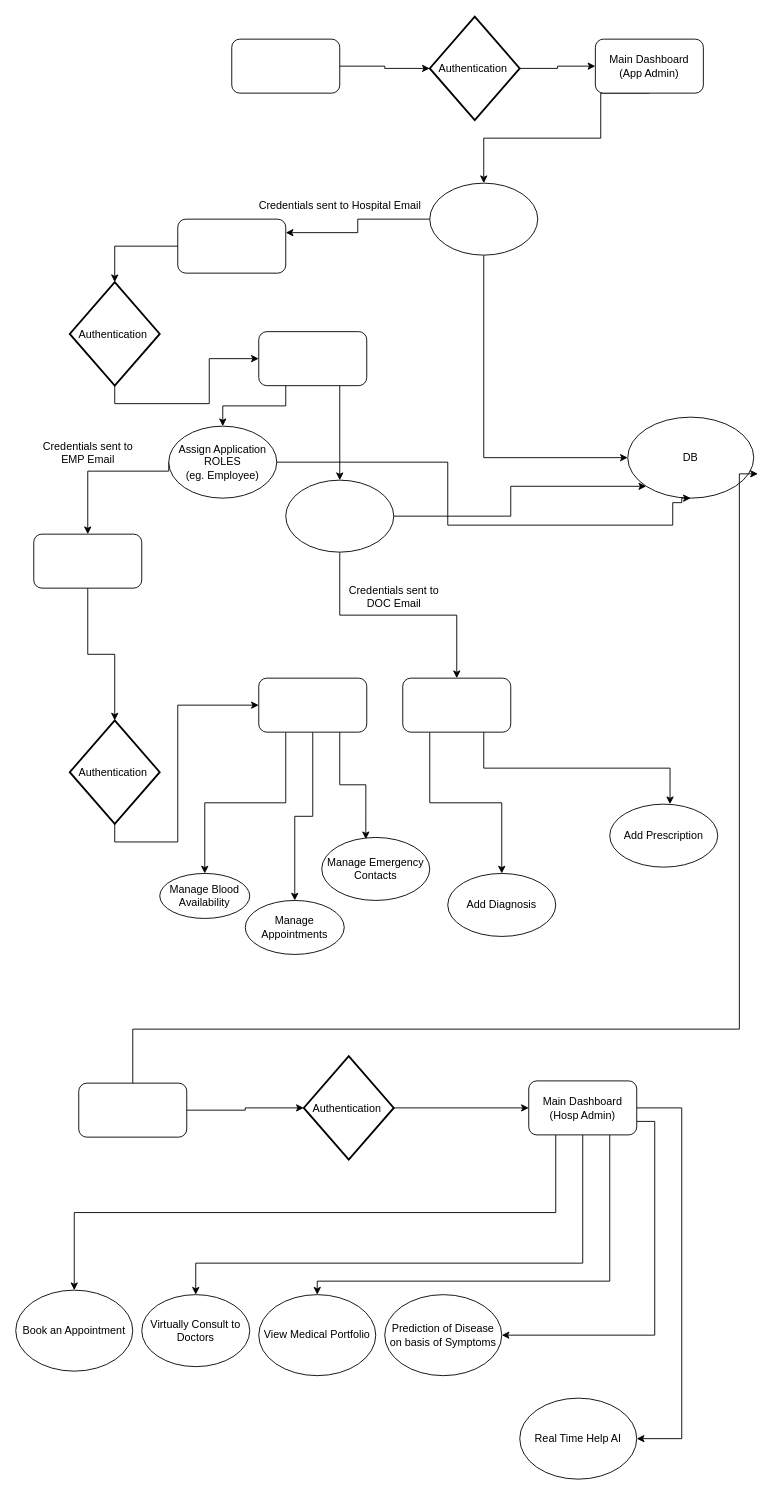
This 781x1495 diagram has some shape labels left out. The shapes that lost their labels are listed below. From the top down, each one's box as (x1, y1, x2, y2) in pixels, then its label:
(231, 38, 340, 93): LifeLine ADMIN Login Screen
(429, 182, 538, 255): Add Hospital
(177, 218, 286, 273): Hospital ADMIN Login Screen
(258, 331, 367, 386): Main Dashboard (Hospital Admin)
(285, 479, 394, 552): Add Doctor
(33, 533, 142, 588): Hospital EMPLOYEE Login Screen
(258, 677, 367, 732): Main Dashboard (EMPLOYEE)
(402, 677, 511, 732): DOCTOR Login Screen
(78, 1082, 187, 1137): LifeLine PATIENT Login/Signup Screen
